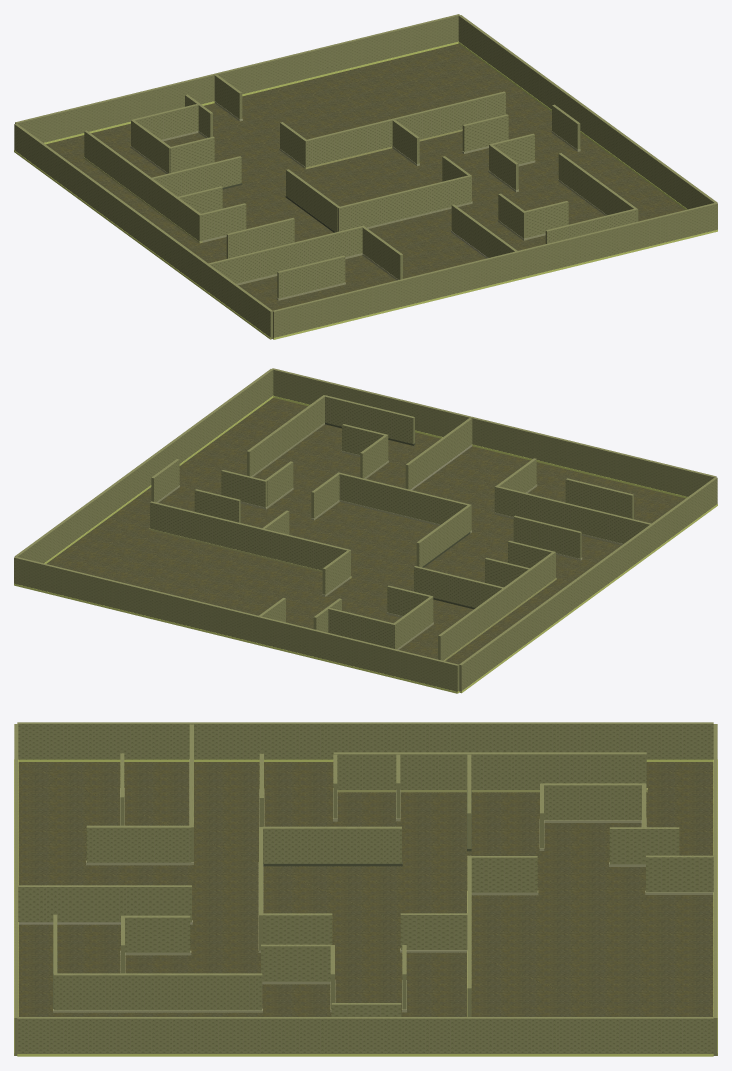
File: definitive.gltf
The picture shows the model from 3 angles, top to bottom: view 1: azimuth 30°, elevation 25°; view 2: azimuth 150°, elevation 25°; view 3: azimuth 270°, elevation 25°; orthographic projection. The views are drawn at different scales.
Visible parts, largest first — view 1: Plane, big-wall, big-wall.001, big-wall.002, big-wall.003, wall-22.5, Cube.002, Cube.005, Cube, Cube.011, Cube.017, Cube.007 (+24 smaller); view 2: Plane, big-wall.001, big-wall, big-wall.002, big-wall.003, wall-22.5, Cube.002, Cube, Cube.005, Cube.013, Cube.007, Cube.011 (+22 smaller); view 3: Plane, big-wall.003, big-wall.002, Cube, Cube.007, Cube.009, Cube.015, Cube.019, Cube.025, Cube.037, Cube.051, Cube.043 (+14 smaller).
Part boxes in pixels (<box>): Plane: <box>46,43,685,310</box>; big-wall: <box>273,202,717,337</box>; big-wall.001: <box>15,14,459,142</box>; big-wall.002: <box>14,123,272,339</box>; big-wall.003: <box>458,15,717,209</box>; wall-22.5: <box>304,91,505,167</box>; Cube.002: <box>208,225,364,284</box>; Cube.005: <box>337,175,471,231</box>; Cube: <box>84,130,201,241</box>; Cube.011: <box>152,156,241,196</box>; Cube.017: <box>277,255,345,298</box>; Cube.007: <box>558,153,638,221</box>; Plane: <box>46,398,685,664</box>; big-wall.001: <box>14,556,459,691</box>; big-wall: <box>271,368,716,496</box>; big-wall.002: <box>459,477,717,691</box>; big-wall.003: <box>14,369,273,563</box>; wall-22.5: <box>150,501,350,570</box>; Cube.002: <box>494,486,650,545</box>; Cube: <box>438,551,555,660</box>; Cube.005: <box>337,472,471,531</box>; Cube.013: <box>325,395,414,443</box>; Cube.007: <box>247,395,325,476</box>; Cube.011: <box>414,566,503,607</box>; Plane: <box>18,762,713,1016</box>; big-wall.003: <box>17,1017,713,1053</box>; big-wall.002: <box>17,722,713,759</box>; Cube: <box>333,752,646,789</box>; Cube.007: <box>53,973,262,1010</box>; Cube.009: <box>18,885,191,922</box>; Cube.015: <box>262,826,401,863</box>; Cube.019: <box>86,825,191,862</box>; Cube.025: <box>541,783,645,820</box>; Cube.037: <box>261,944,330,981</box>; Cube.051: <box>646,855,713,892</box>; Cube.043: <box>121,915,190,952</box>.
Bounding box in the file's own units: 101 × 6.07 × 101.
Materials: 17 (9 with a texture image).
